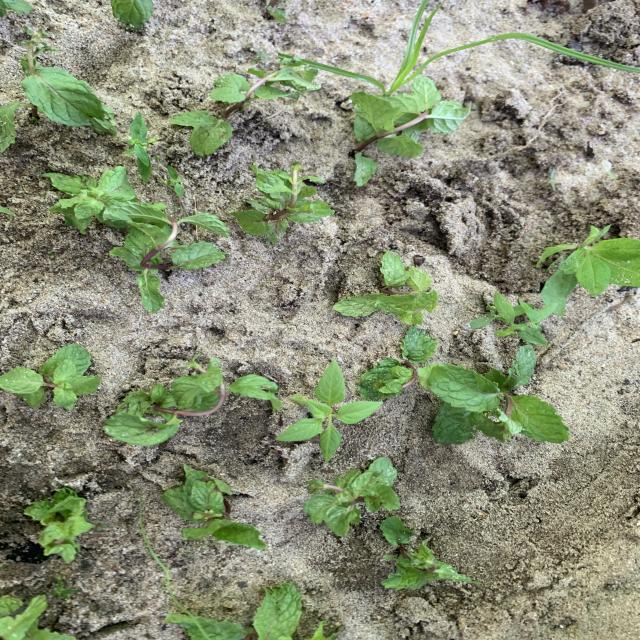crop: (106, 356, 279, 446), (170, 61, 319, 157), (350, 75, 469, 186), (431, 345, 567, 442), (111, 202, 228, 311), (162, 465, 265, 548), (235, 163, 333, 243), (169, 581, 303, 639), (334, 251, 438, 324), (21, 51, 113, 132), (304, 457, 399, 535), (0, 345, 100, 408), (45, 167, 136, 233), (358, 326, 437, 400), (25, 487, 95, 562), (381, 536, 475, 589), (0, 596, 75, 639), (112, 1, 153, 27), (1, 103, 18, 151)
weed: (280, 0, 640, 96), (277, 360, 381, 458), (537, 226, 640, 315), (235, 164, 333, 244), (139, 495, 175, 604), (494, 293, 548, 345), (128, 116, 155, 182), (22, 27, 57, 52), (162, 166, 184, 195), (51, 579, 77, 599), (470, 309, 496, 328), (266, 1, 286, 22), (1, 1, 31, 14), (255, 51, 268, 61), (1, 207, 14, 214)
